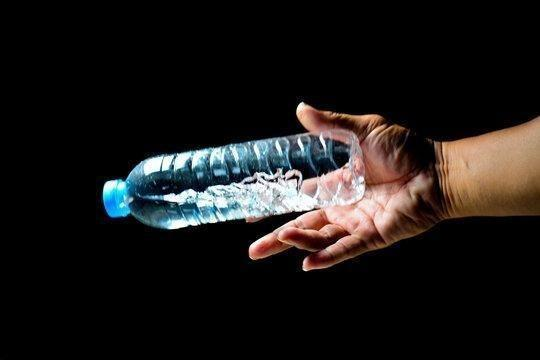bottle-plastic: (100, 125, 368, 231)
